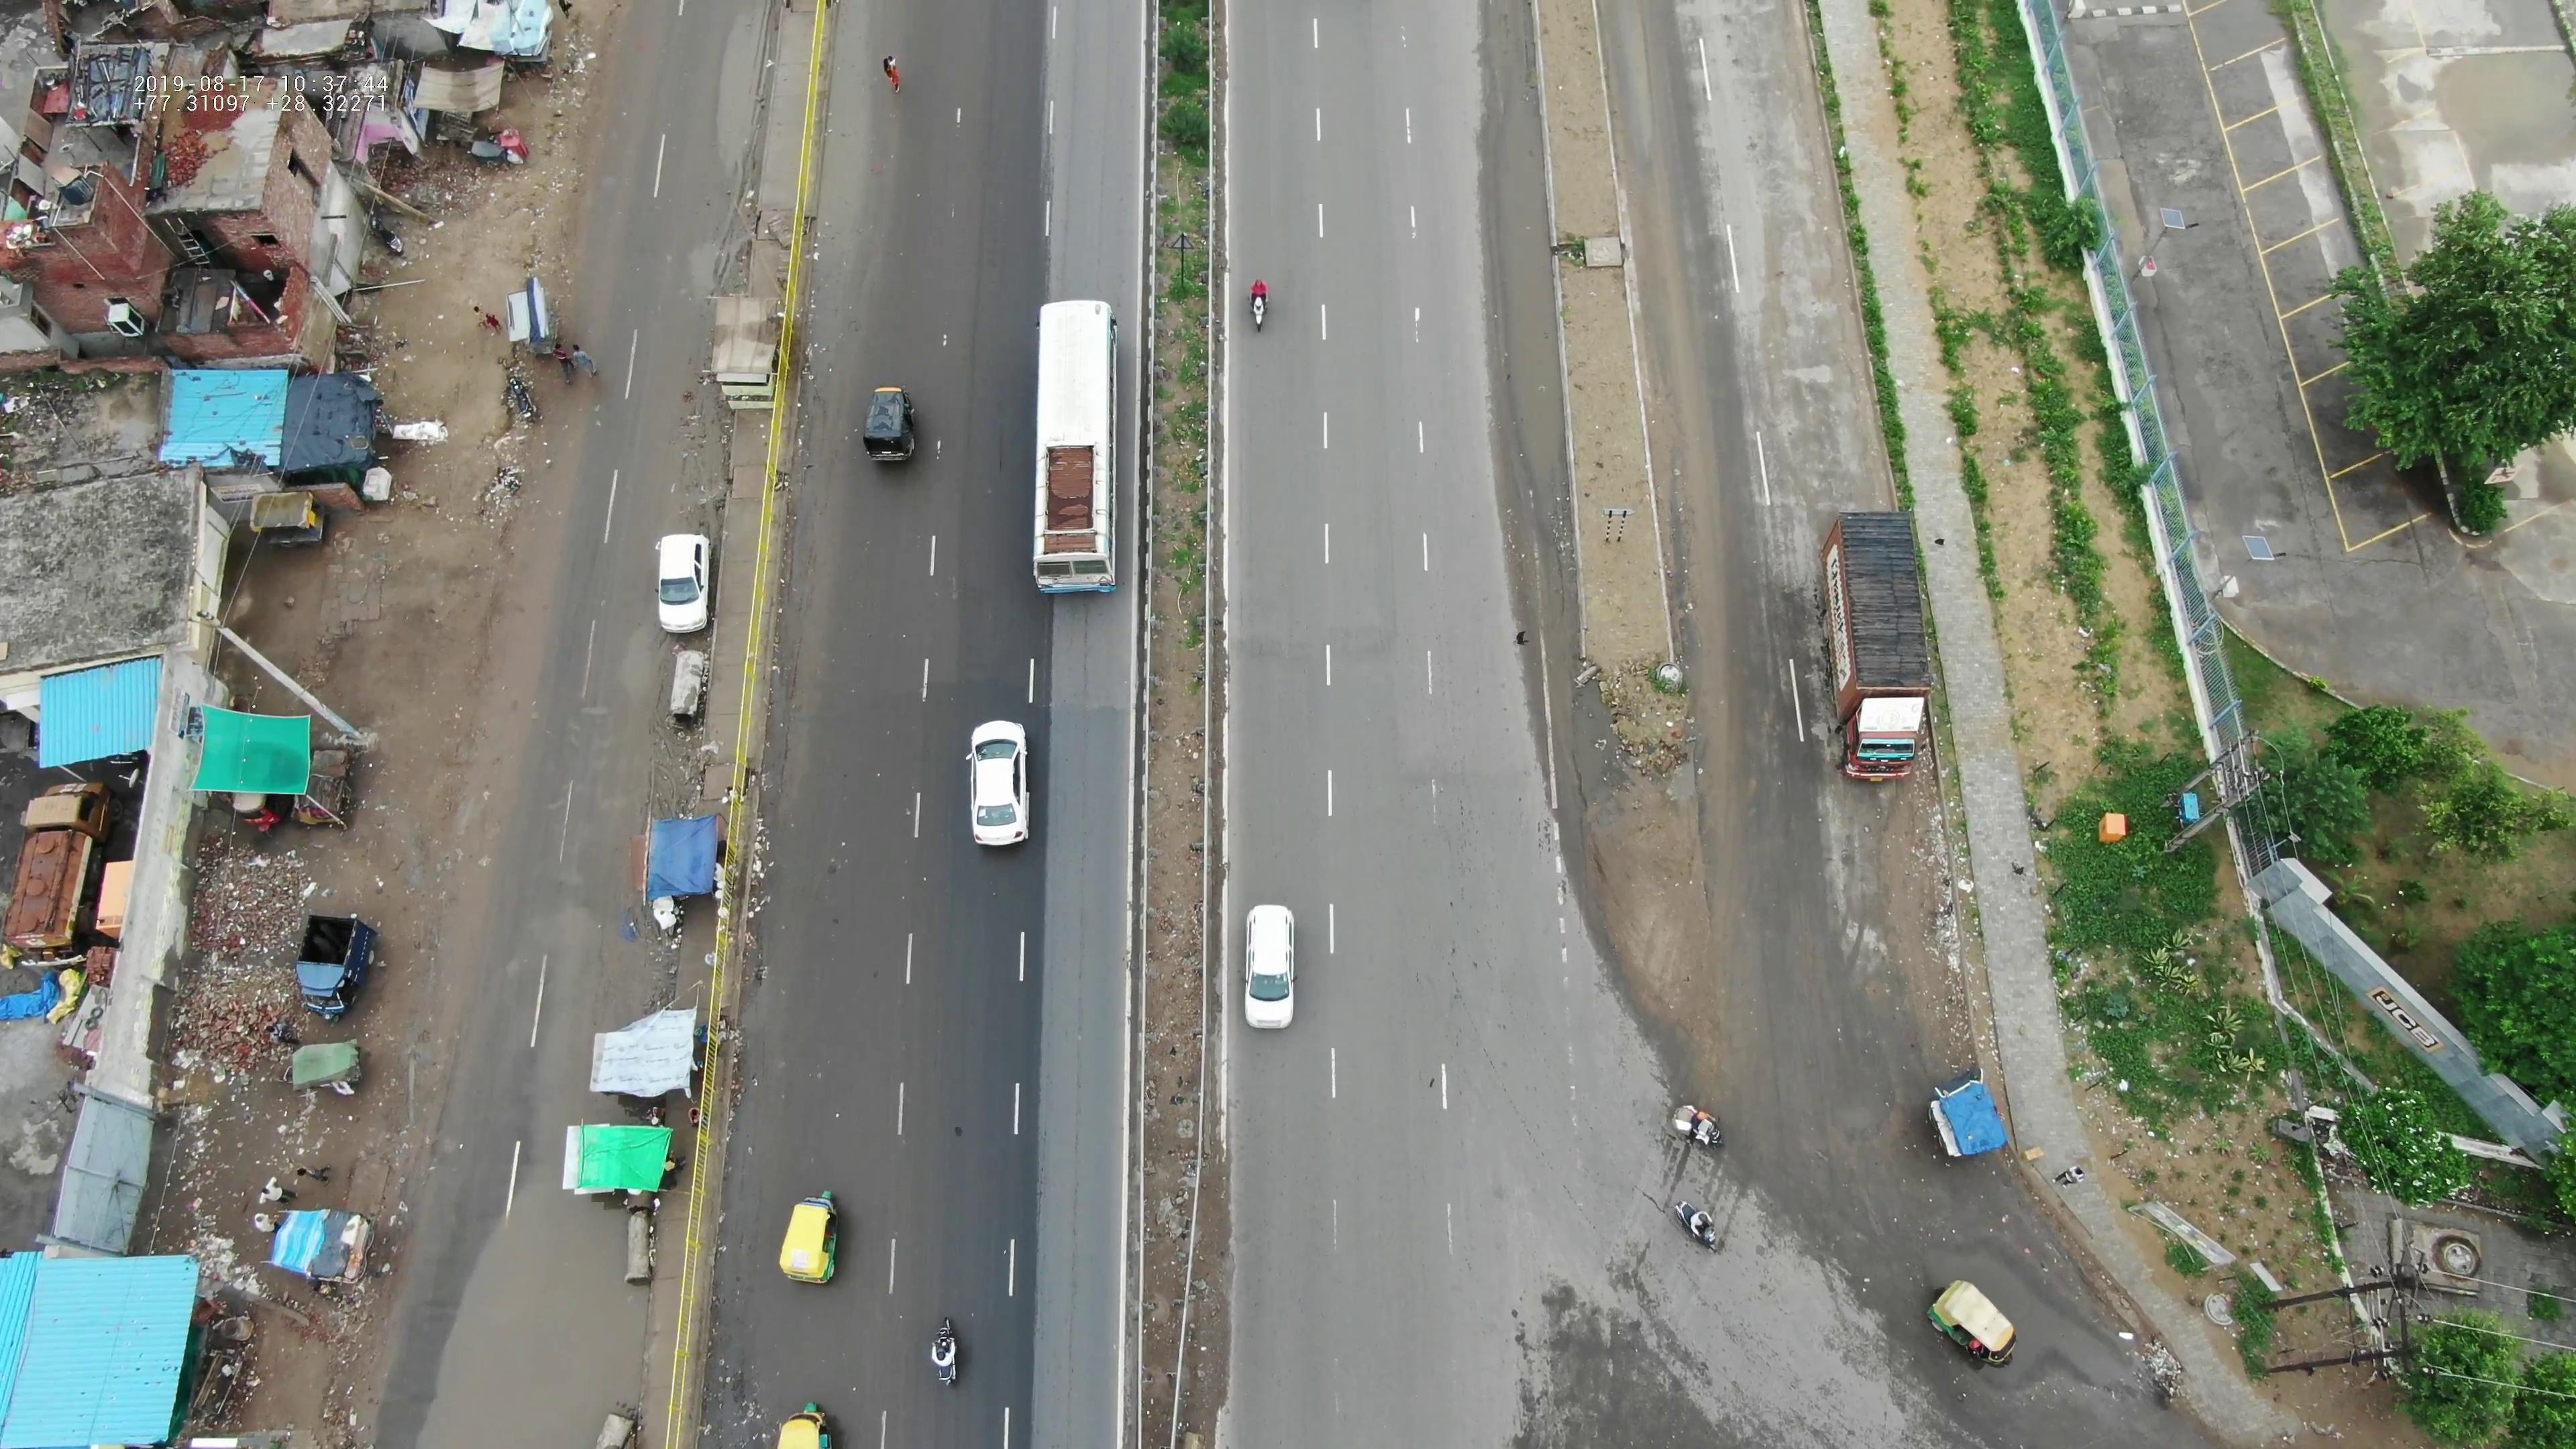Potholes: (525, 623, 632, 849)
Waterlogging: (425, 1017, 658, 1433), (1467, 62, 1580, 518)
